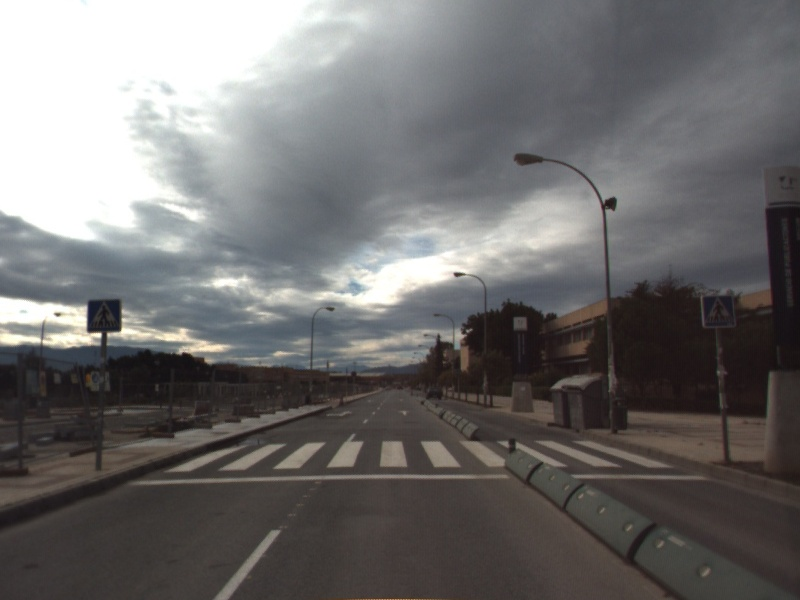STRAIGHT: (396, 408, 412, 417)
STRAIGHT_LEFT: (323, 408, 355, 419)
